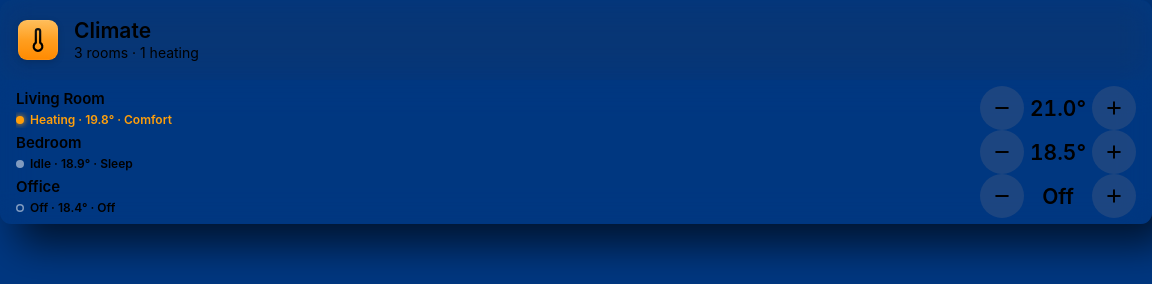
Multiroom thermostat card › steps the target, and turns an off room back on first
Expected: the text "Living Room" is shown, [16,88,105,108]
What coordinates should you click on to do the following:
click the button named "Raise Living Room"
I would click on:
 (1114, 108)
Its box is [1092,86,1136,130].
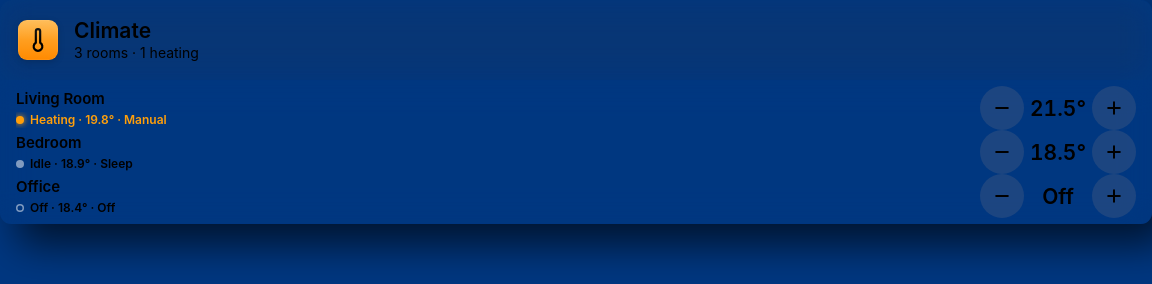
Expected: the text "21.5°" is shown, [1028,96,1088,120]
What coordinates should you click on to do the following:
click the button named "Raise Office"
I would click on:
 (1114, 196)
Its box is [1092,174,1136,218].
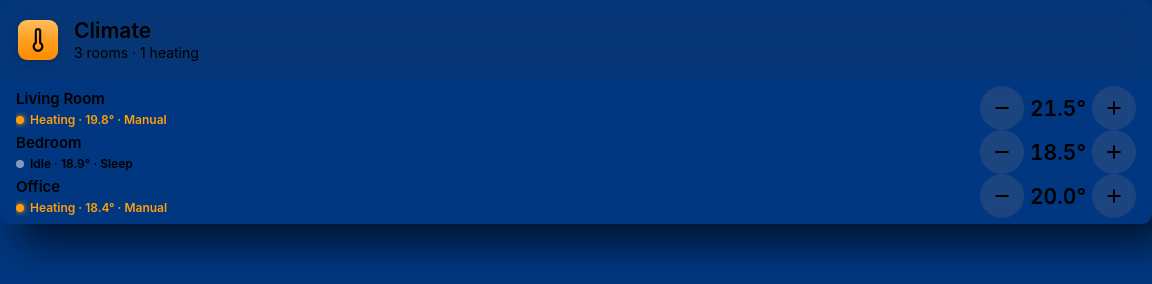
Expected: the text "20.0°" is shown, [1028,184,1088,208]
